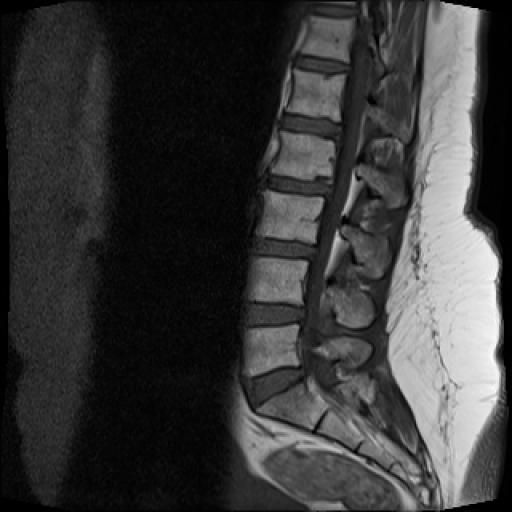L1: (287, 69, 346, 122)
L2: (271, 131, 335, 182)
L3: (256, 190, 324, 244)
L4: (248, 258, 306, 304)
L5: (242, 324, 300, 376)
S1: (256, 382, 325, 430)
